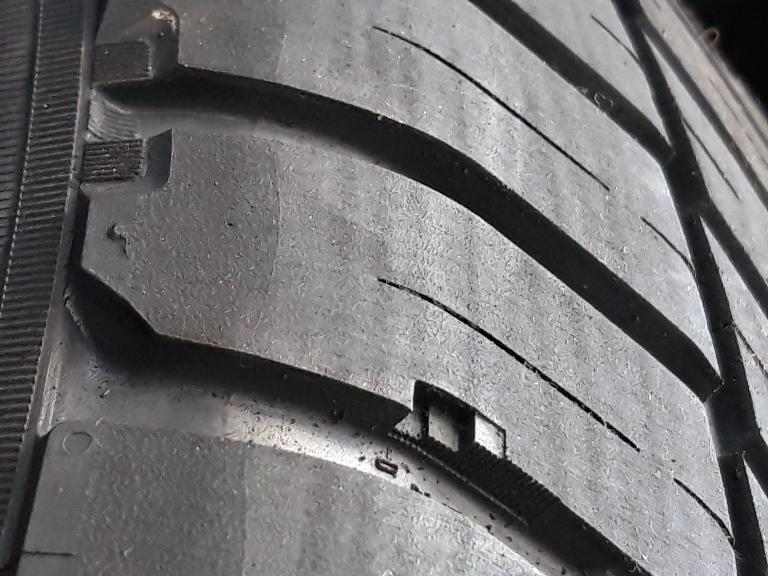temoin:50: (378, 373, 514, 498)
